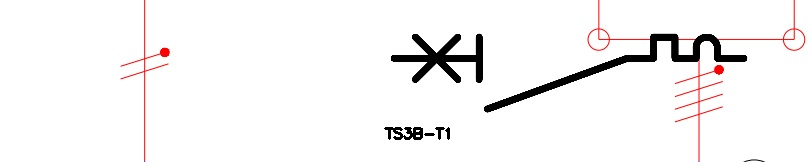interruptor_termomagnetico: (385, 28, 753, 118)
